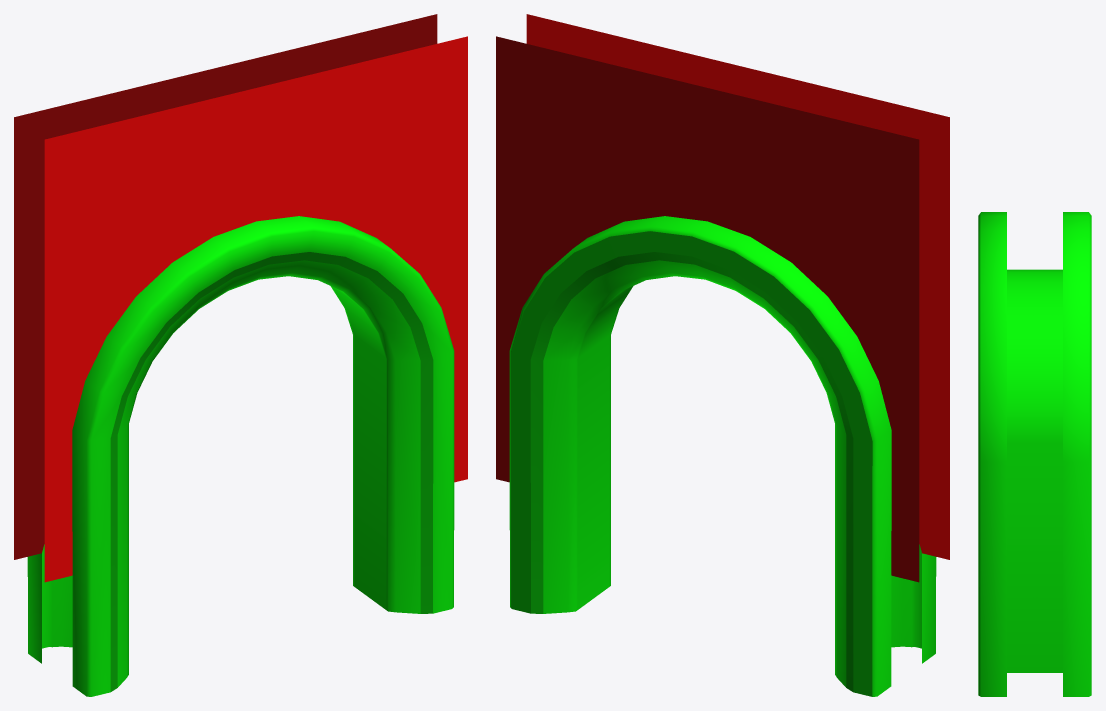
File: SM_BaseWallArchMedium4mOpen.fbx
3 views of the same model, side by side, from view 1: azimuth 30°, elevation 25°; view 2: azimuth 150°, elevation 25°; view 3: azimuth 270°, elevation 25° (orthographic). The views are drawn at different scales.
Parts seen in each view (by area): view 1: SM_BaseWallArchMedium4mOpen; view 2: SM_BaseWallArchMedium4mOpen; view 3: SM_BaseWallArchMedium4mOpen.
Boxes of the visible parts, bbox=[...] form: SM_BaseWallArchMedium4mOpen: bbox=[14, 14, 467, 696]; SM_BaseWallArchMedium4mOpen: bbox=[496, 14, 949, 696]; SM_BaseWallArchMedium4mOpen: bbox=[978, 212, 1091, 696].
Size of the model in its own units: 400 by 500 by 101.
